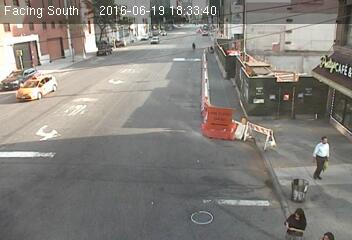neg: (139, 77, 179, 130), (89, 61, 116, 97), (46, 139, 72, 175), (50, 54, 69, 80)
pos: (305, 132, 340, 180), (189, 39, 199, 53)
